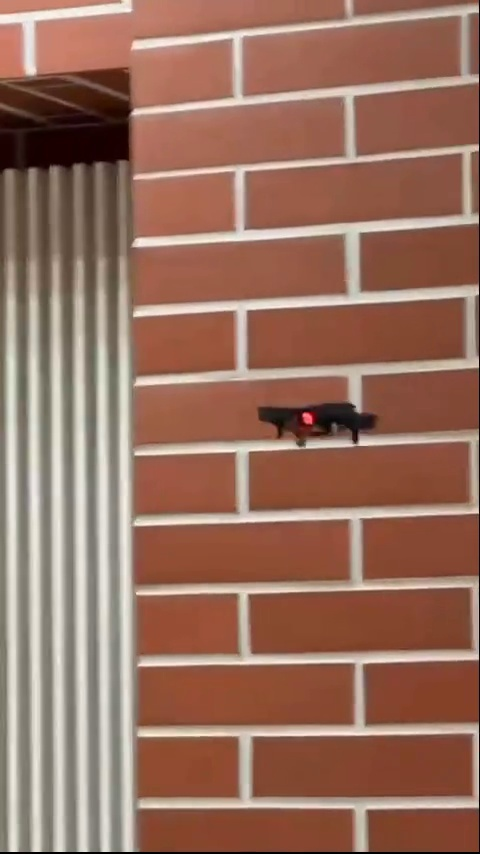drone: (253, 390, 388, 448)
